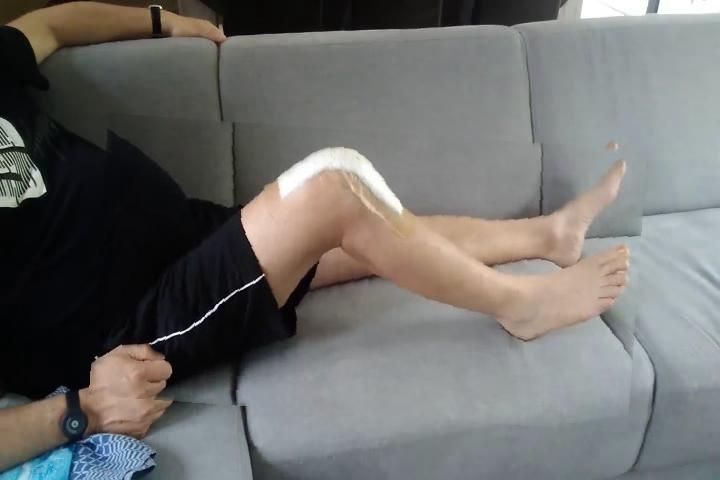lowerbody: (94, 123, 644, 424)
